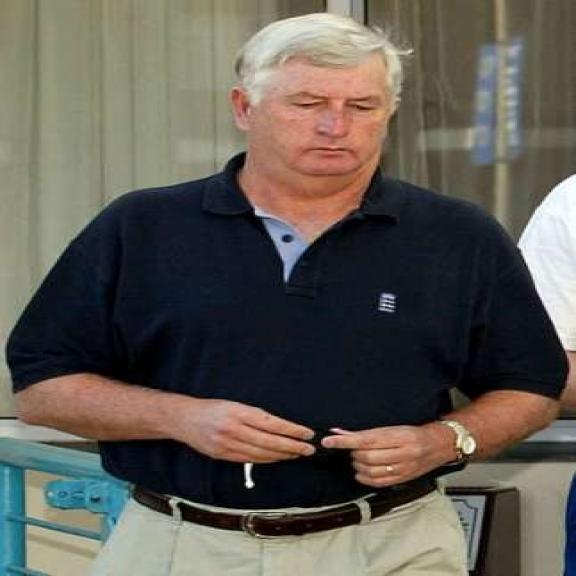face: (227, 53, 391, 195)
